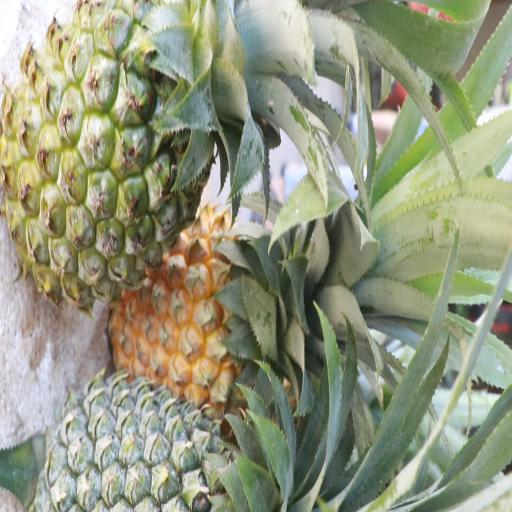------------------------------: (7, 6, 219, 299)
Pineapple - v8 v1: (112, 221, 305, 403)
